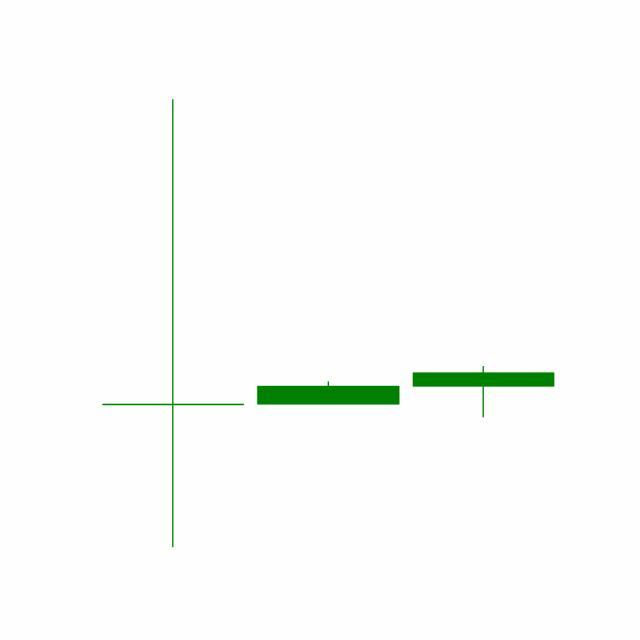Hammer: (406, 366, 562, 419)
